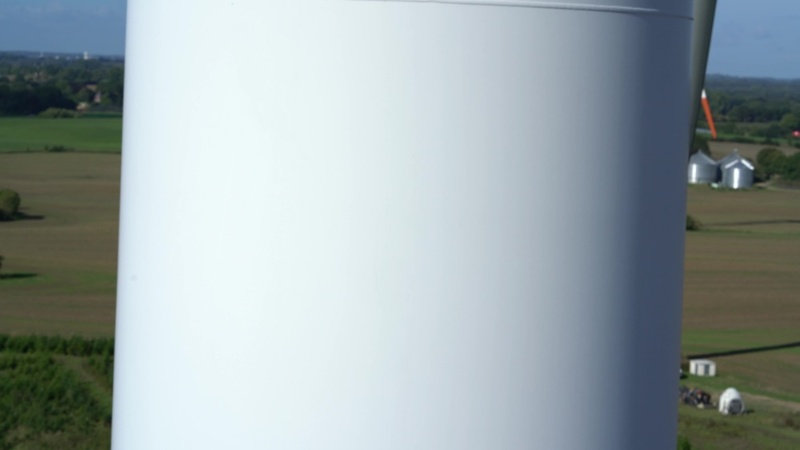weldseam: (335, 1, 696, 26)
